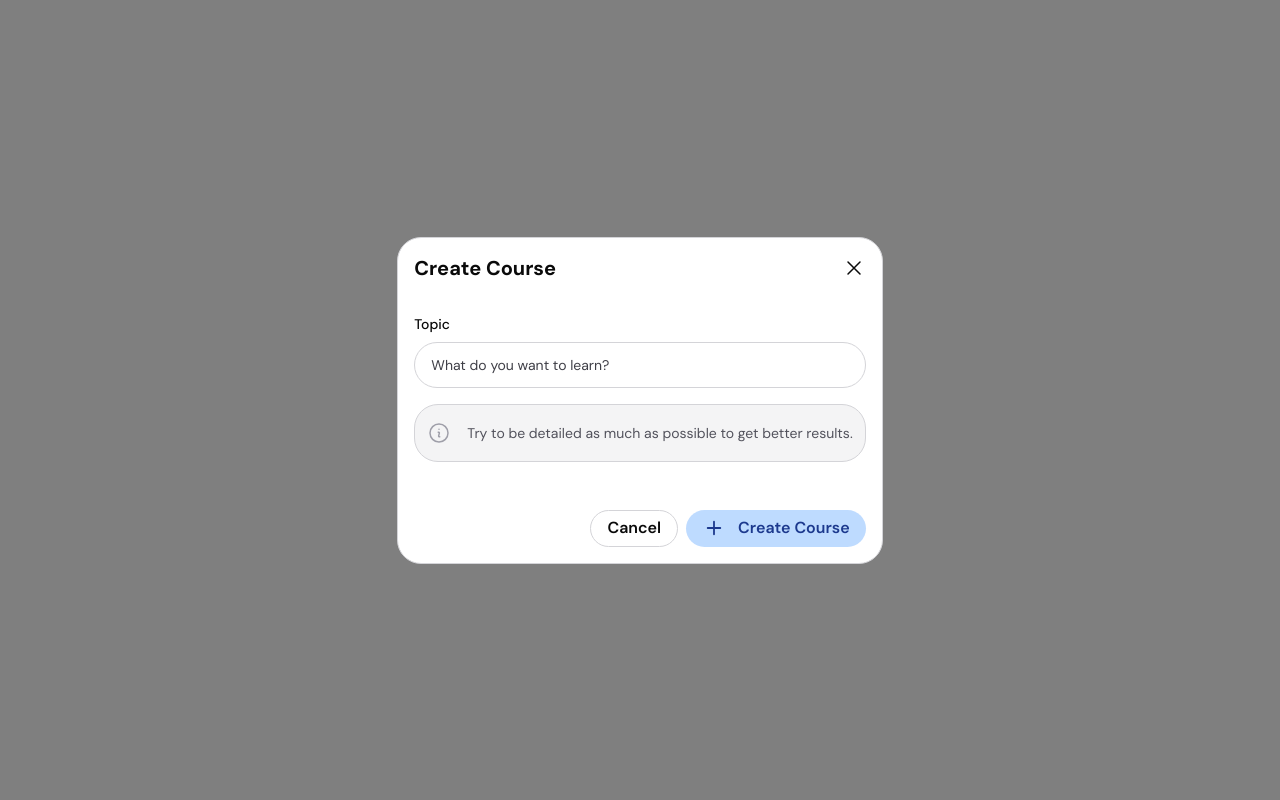
CreateCourseForm › check if shows error if topic is empty
This screenshot has width=1280, height=800.
In the field with placeholder "What do you want to learn?": (640,364) left=414, top=342, right=866, bottom=388, type "test"
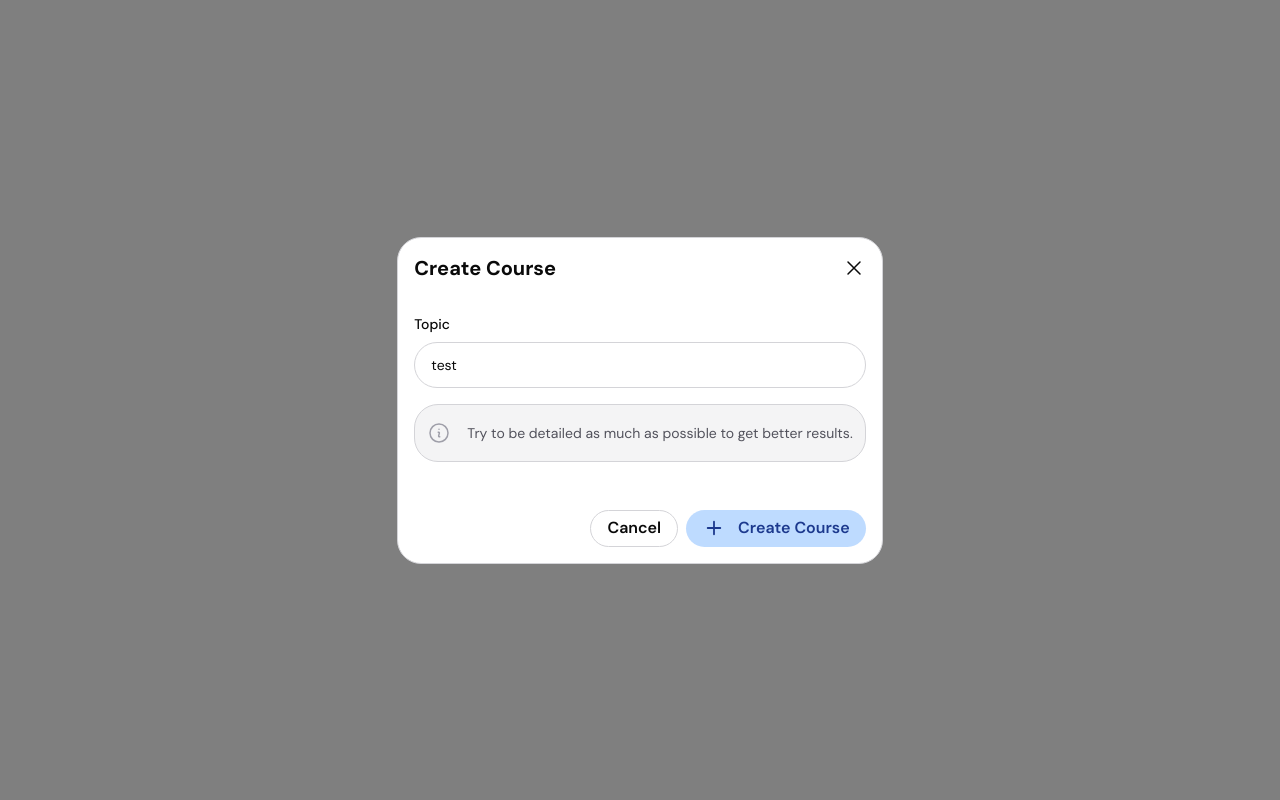
Click the button "Create Course": (776,528) left=686, top=510, right=866, bottom=546
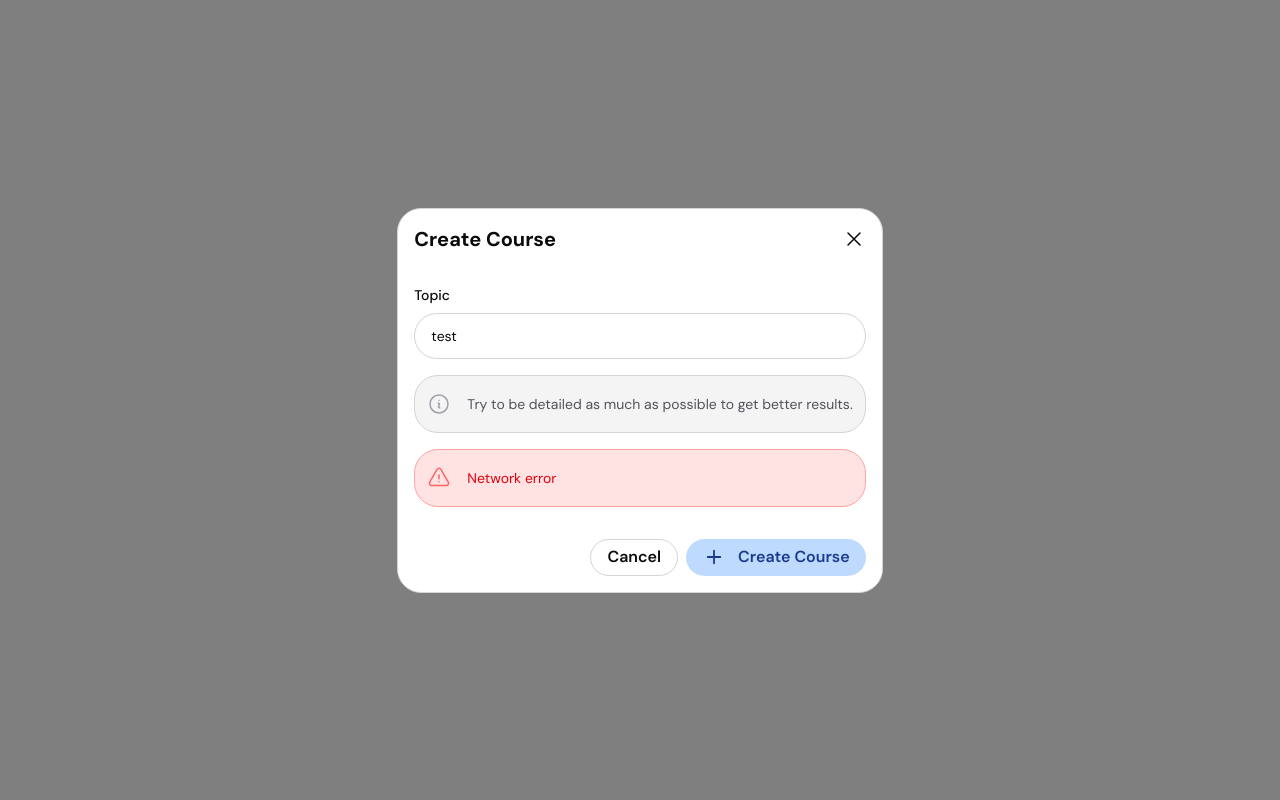
Expected: the text "Network error" is shown, left=467, top=468, right=556, bottom=488
